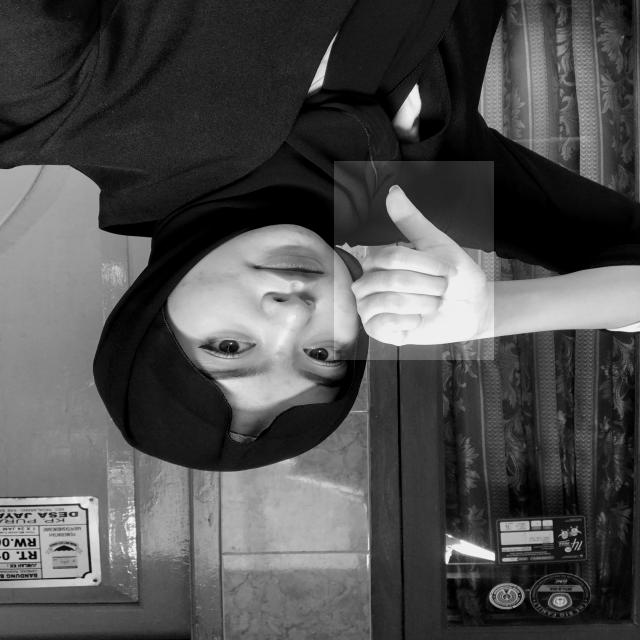sedih: (334, 161, 494, 360)
